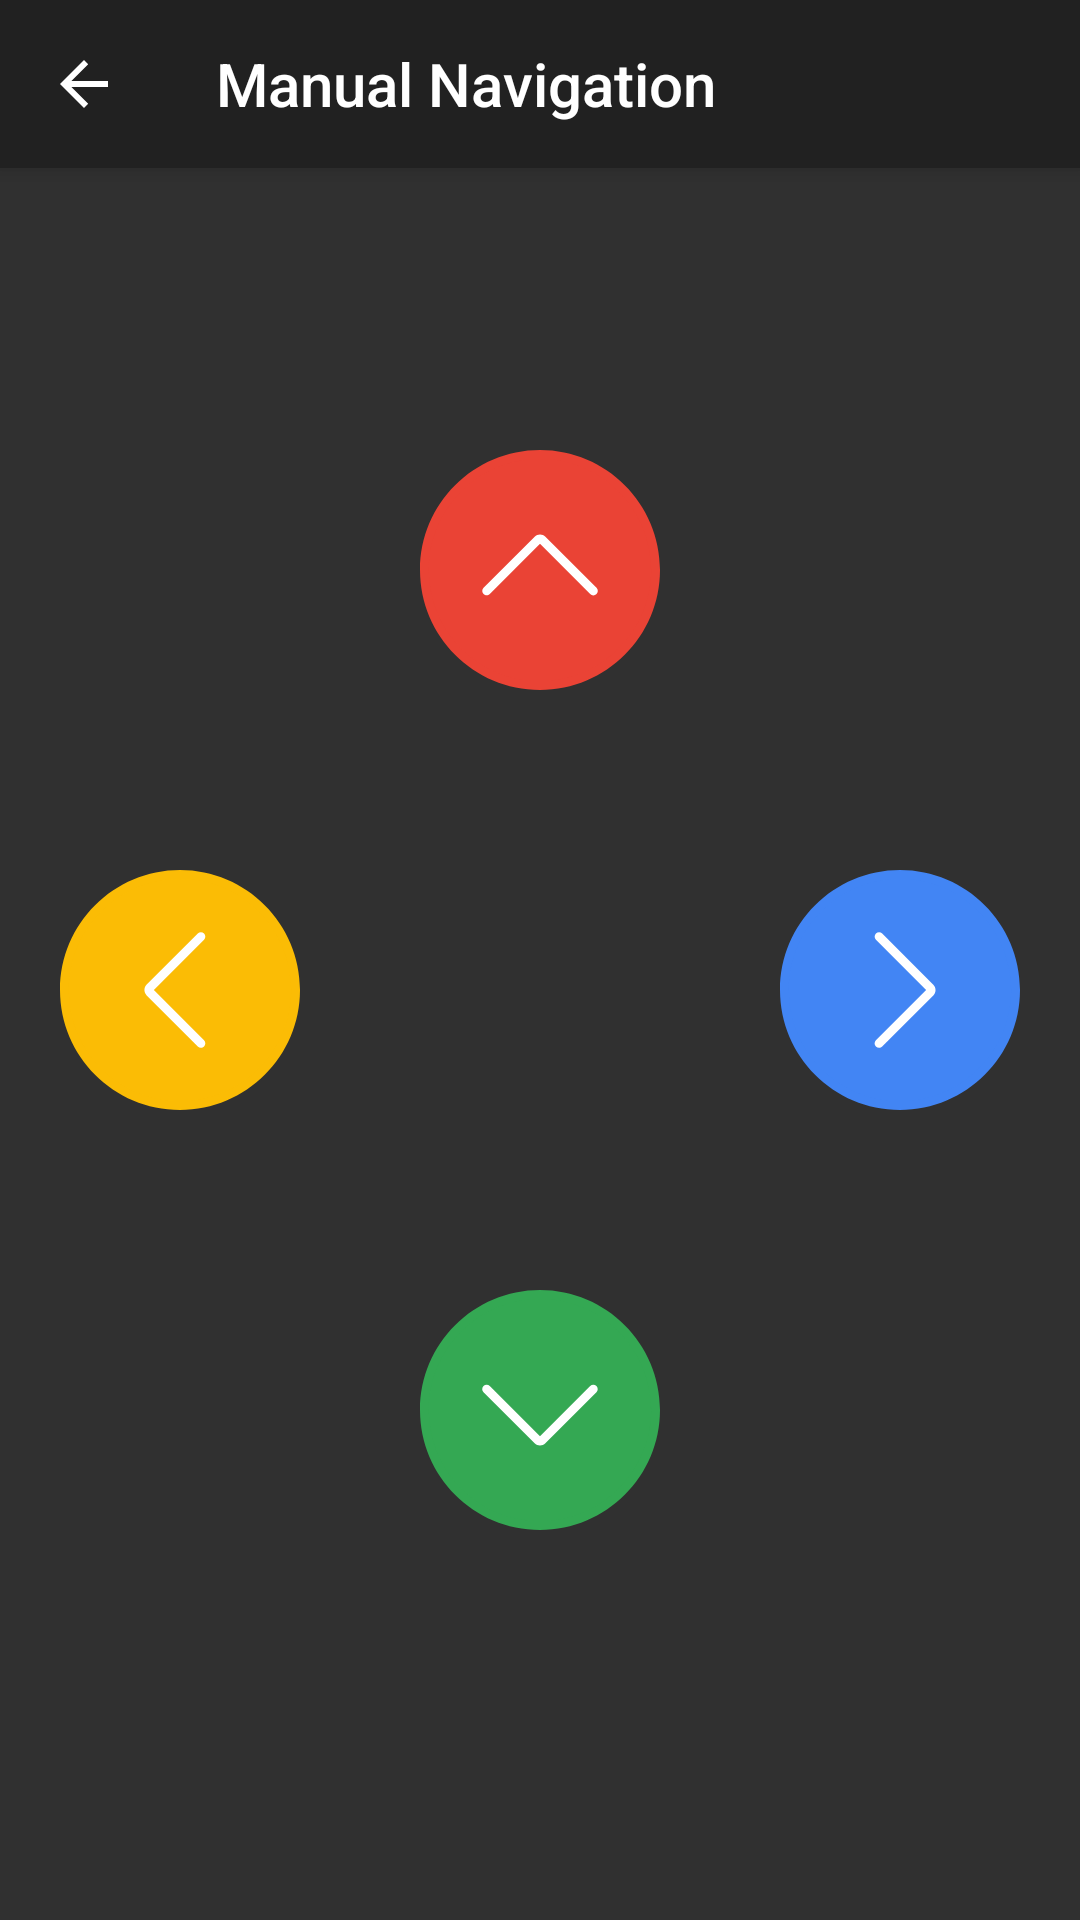

Icon bounding boxes for this 1080 x 1920 phone screenshot, format (x1, y1, x2, y2):
down arrow: (420, 1290, 660, 1530)
left arrow: (60, 870, 300, 1110)
right arrow: (780, 870, 1020, 1110)
up arrow: (420, 450, 660, 690)
